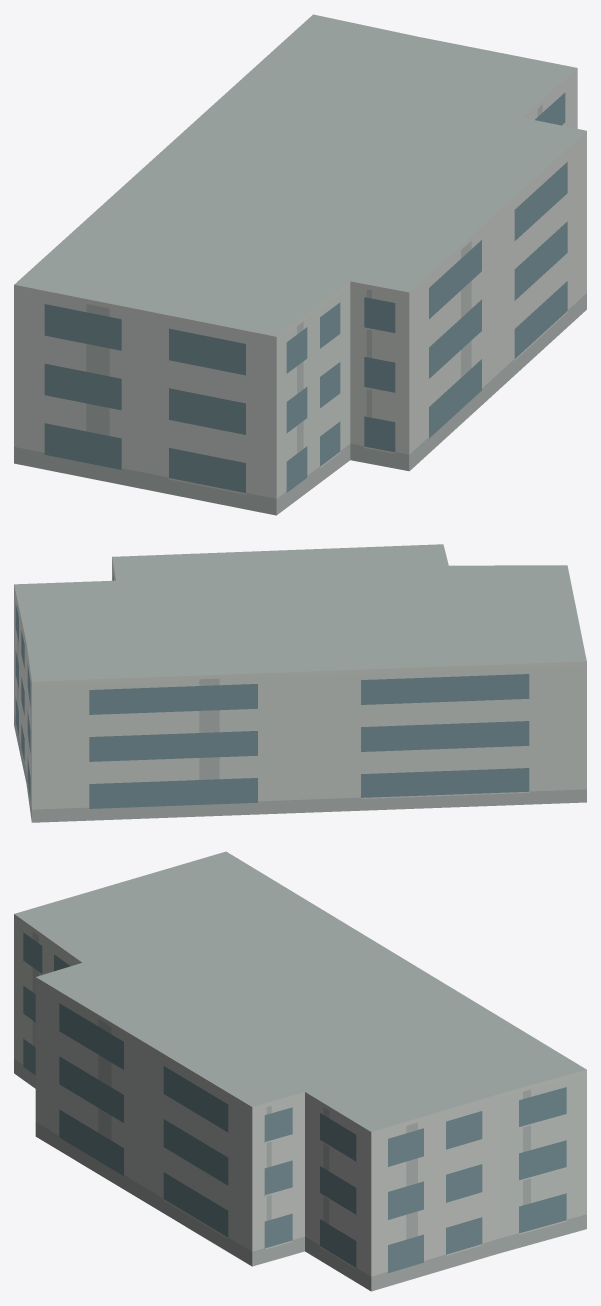
File: survey-upis-32846853.glb
3 views of the same model, one above another, from view 1: azimuth 30°, elevation 25°; view 2: azimuth 150°, elevation 25°; view 3: azimuth 270°, elevation 25° (orthographic). The views are drawn at different scales.
Parts seen in each view (by area): view 1: survey-upis-32846853.tmp; view 2: survey-upis-32846853.tmp; view 3: survey-upis-32846853.tmp.
Boxes of the visible parts, bbox=[...] form: survey-upis-32846853.tmp: bbox=[14, 14, 586, 515]; survey-upis-32846853.tmp: bbox=[14, 544, 586, 822]; survey-upis-32846853.tmp: bbox=[14, 851, 586, 1291].
Size of the model in its own units: 34.55 by 9.15 by 29.8.
